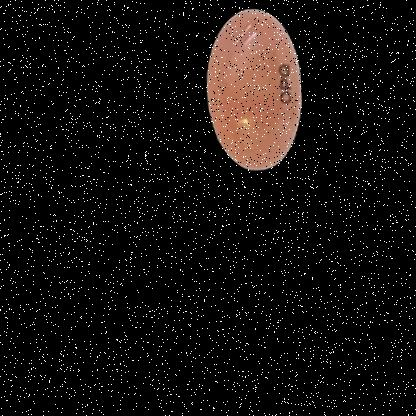opiqutan: (165, 0, 339, 210)
